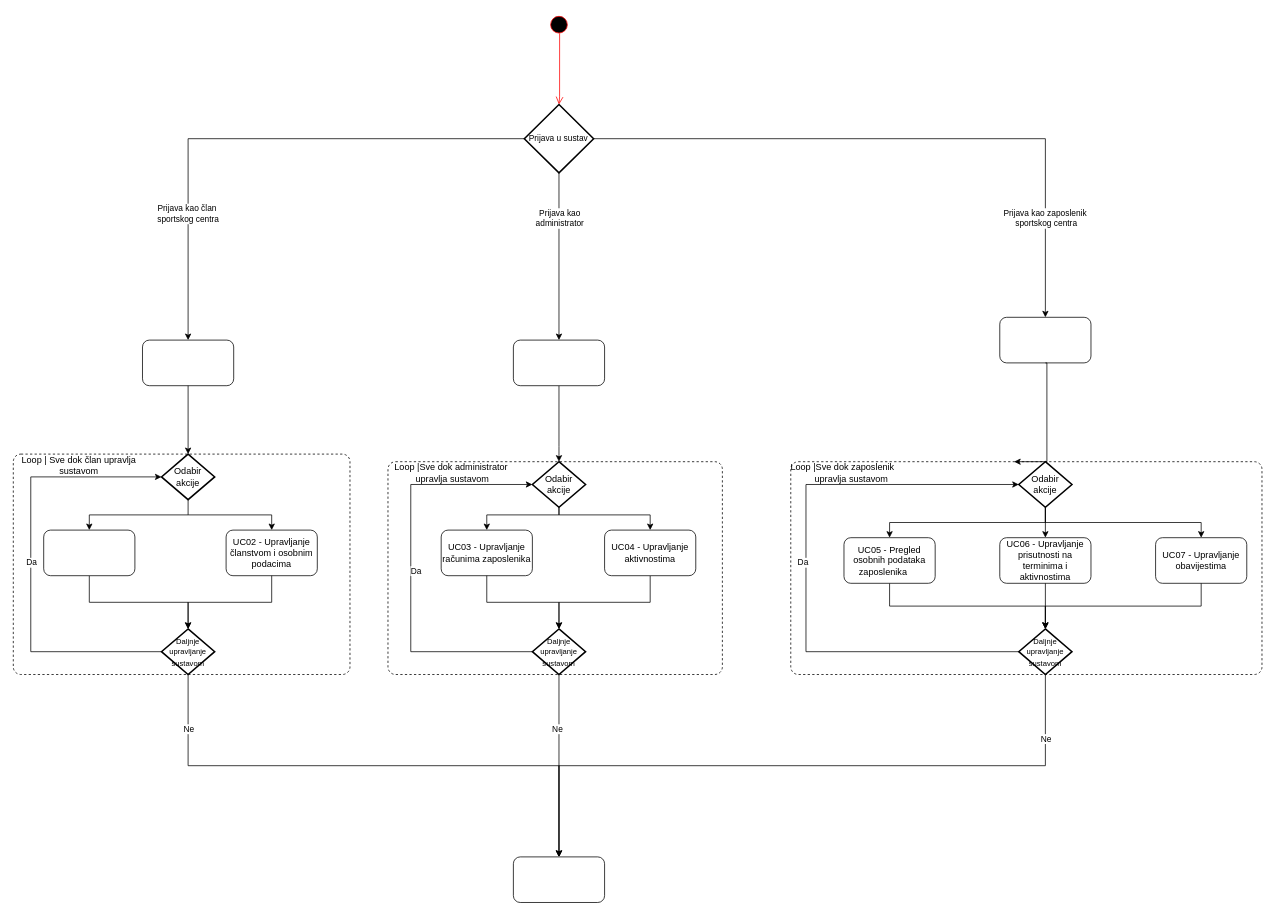
This 1275x916 diagram has some shape labels left out. The shapes that lost their labels are listed below. From the top down, each one's centre as x and y in pixels, then its label:
At pixel 1045 340: "Prikaz početnog ekrana zaposlenika".
At pixel 188 362: "Prikaz početnog ekrana člana".
At pixel 559 362: "Prikaz početnog ekrana administratora".
At pixel 89 552: "UC01 - Upravljanje rezervacijama".
At pixel 559 879: "Završetak rada sustava".
